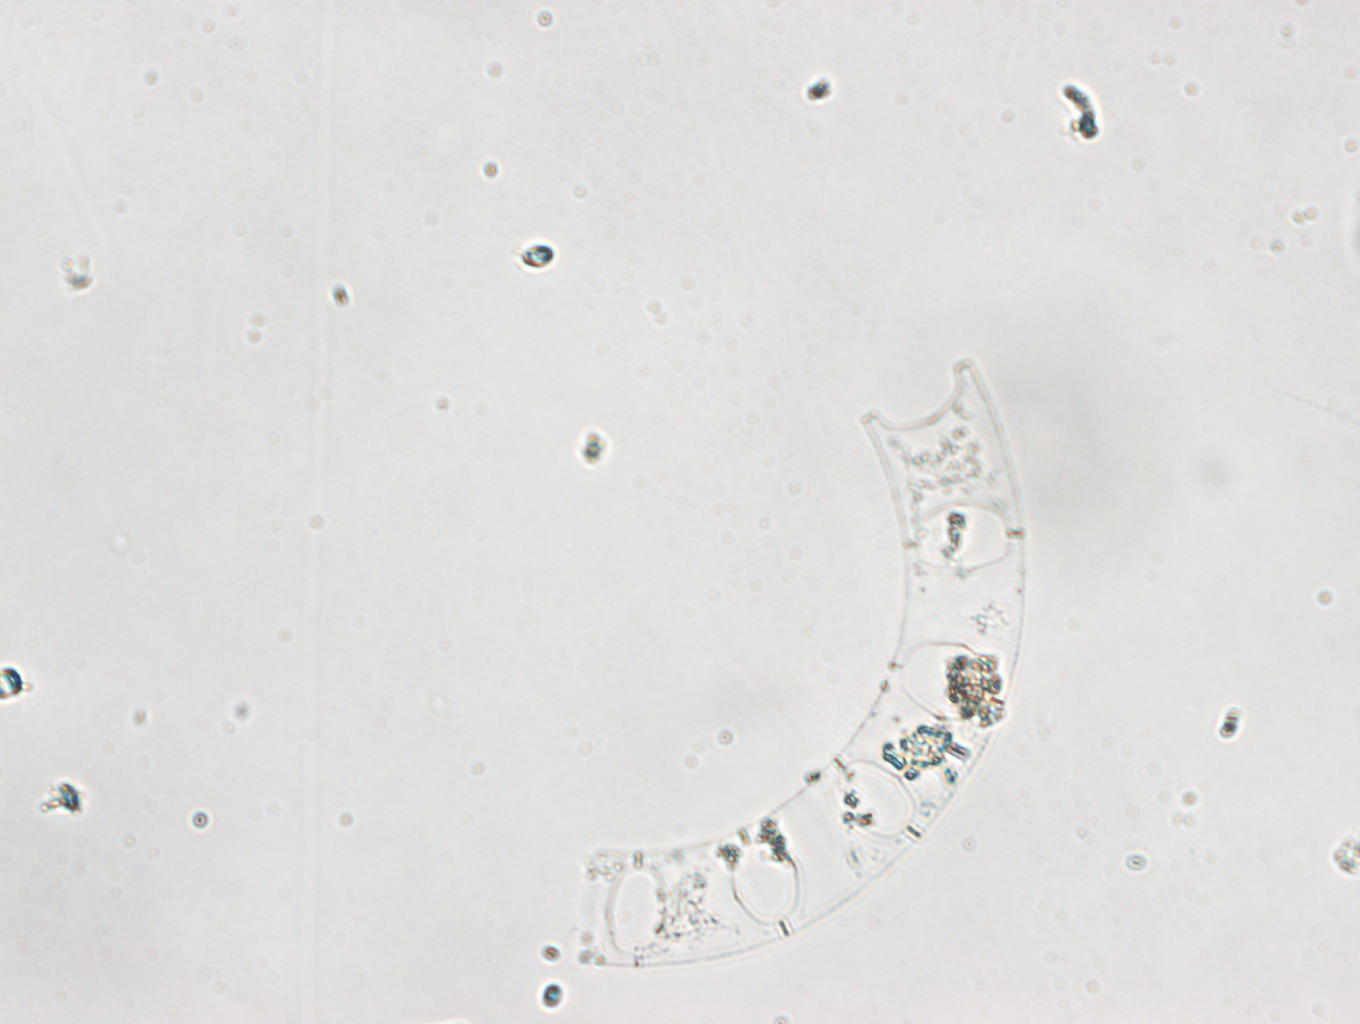eucampia: (577, 360, 1025, 970)
